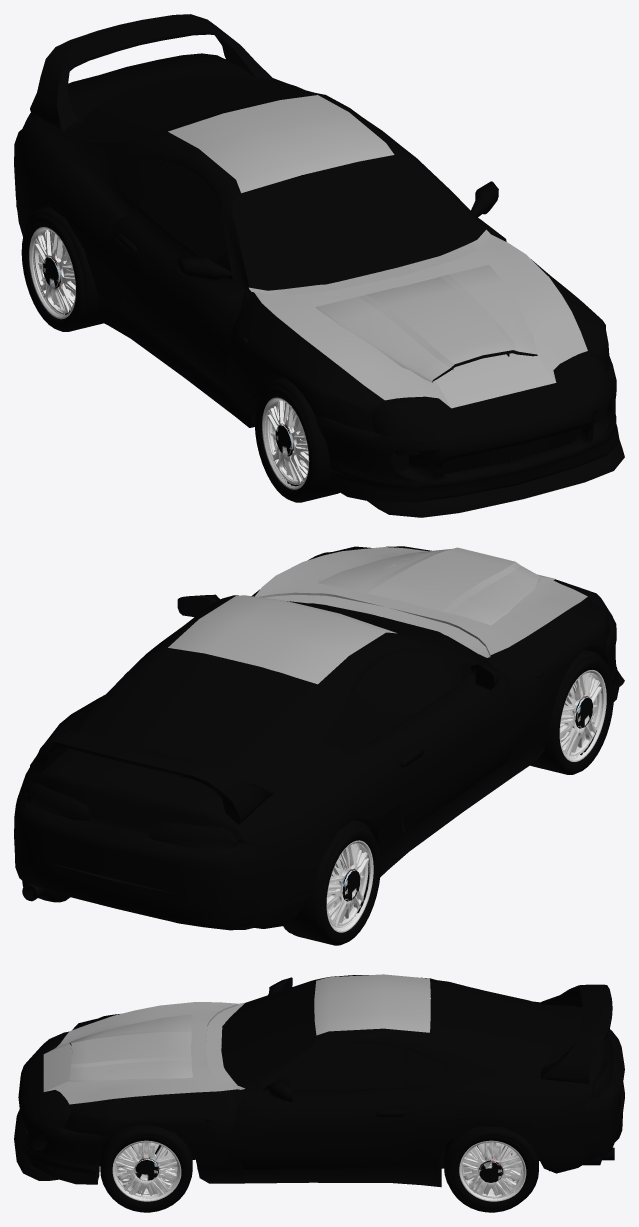
File: sup_1.fbx
3 views of the same model, one above another, from view 1: azimuth 30°, elevation 25°; view 2: azimuth 150°, elevation 25°; view 3: azimuth 270°, elevation 25° (orthographic). The views are drawn at different scales.
Visible parts, largest first — view 1: back_eyes.004, airtake2, BumperFront, spoiler.002, WheelFutureRB, WheelFutureRF, WheelStarLB, WheelV_RF, BumperBack, WheelFlowerLF, WheelStarRF, WheelSimple_RF; view 2: back_eyes.004, airtake2, BumperBack, spoiler.002, WheelFutureRF, WheelFutureRB, WheelMagicRB, WheelStarLB, WheelStarRF, WheelFlowerLF, BumperFront; view 3: back_eyes.004, airtake2, BumperFront, BumperBack, spoiler.002, WheelMagicLB, WheelMagicLF, WheelFutureLB, WheelFutureLF, WheelStarRB, WheelStarLF, WheelFlowerRF (+3 smaller).
Boxes of the visible parts, x1,y1,x2,y2 form: back_eyes.004: (16, 53, 611, 500); airtake2: (168, 95, 587, 408); BumperFront: (314, 356, 624, 517); spoiler.002: (30, 14, 272, 131); WheelFutureRB: (21, 214, 103, 331); WheelFutureRF: (254, 386, 339, 502); WheelStarLB: (33, 212, 99, 322); WheelV_RF: (265, 386, 333, 495); BumperBack: (14, 129, 34, 236); WheelFlowerLF: (261, 377, 316, 486); WheelStarRF: (267, 402, 319, 484); WheelSimple_RF: (268, 401, 334, 494); back_eyes.004: (19, 546, 616, 930); airtake2: (168, 547, 587, 684); BumperBack: (14, 787, 324, 929); spoiler.002: (29, 730, 273, 824); WheelFutureRF: (530, 658, 613, 774); WheelFutureRB: (290, 829, 380, 945); WheelMagicRB: (283, 831, 369, 939); WheelStarLB: (327, 820, 374, 927); WheelStarRF: (561, 675, 601, 756); WheelFlowerLF: (554, 649, 603, 756); BumperFront: (603, 615, 624, 701); back_eyes.004: (24, 975, 614, 1187); airtake2: (43, 974, 430, 1104); BumperFront: (14, 1055, 109, 1184); BumperBack: (523, 1029, 624, 1173); spoiler.002: (540, 984, 612, 1083); WheelMagicLB: (451, 1127, 538, 1209); WheelMagicLF: (104, 1128, 192, 1209); WheelFutureLB: (446, 1136, 532, 1212); WheelFutureLF: (102, 1136, 188, 1212); WheelStarRB: (444, 1126, 523, 1198); WheelStarLF: (107, 1134, 177, 1198); WheelFlowerRF: (108, 1125, 177, 1198).
Size of the model in its own units: 208 by 137 by 470.
